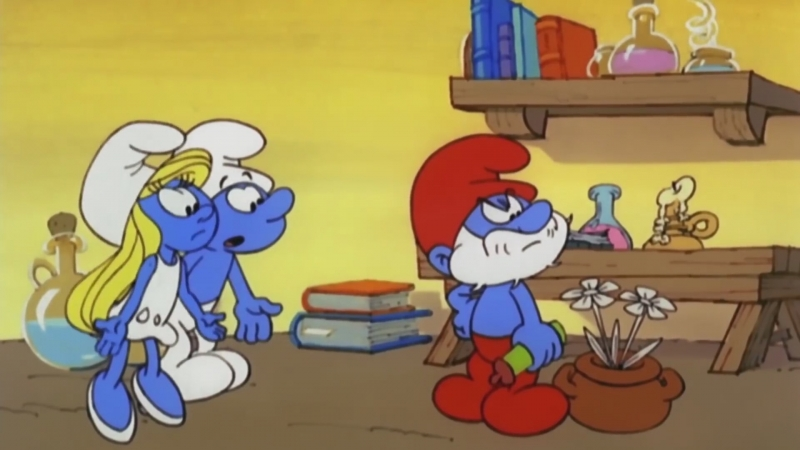smurf: (407, 130, 577, 434), (63, 119, 220, 444), (187, 120, 298, 397)
